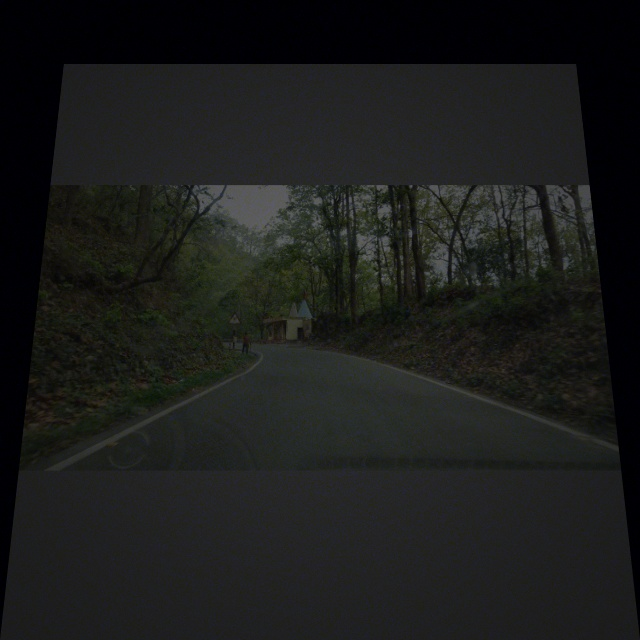Narrow_Bridge: (227, 306, 243, 326)
